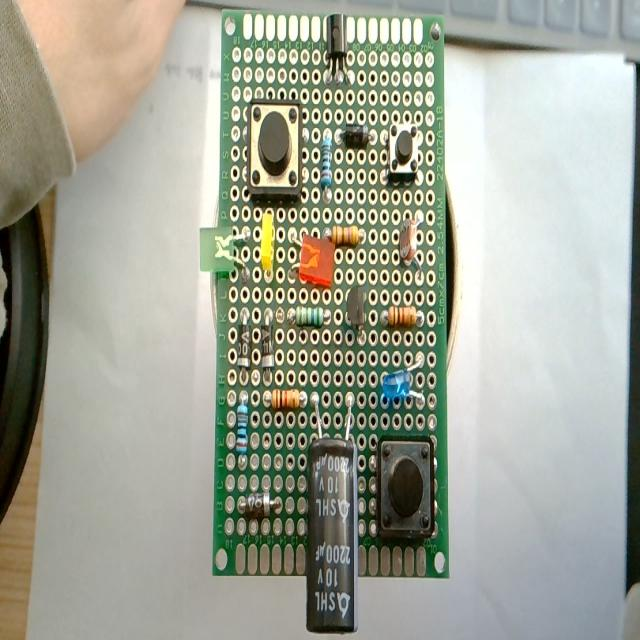Electrolytic capacitor: (304, 385, 360, 632)
diode: (242, 493, 280, 518), (236, 311, 252, 367), (261, 318, 275, 372), (339, 124, 369, 148)
led: (199, 225, 240, 275), (299, 234, 335, 289), (380, 361, 422, 407)
resistor: (235, 402, 249, 454), (320, 131, 332, 187), (270, 389, 302, 410), (388, 306, 416, 327), (295, 306, 324, 326), (331, 225, 358, 246)
switch: (375, 437, 435, 543), (248, 100, 302, 202), (388, 122, 419, 181)
transistor: (324, 11, 352, 81), (347, 285, 367, 344)
